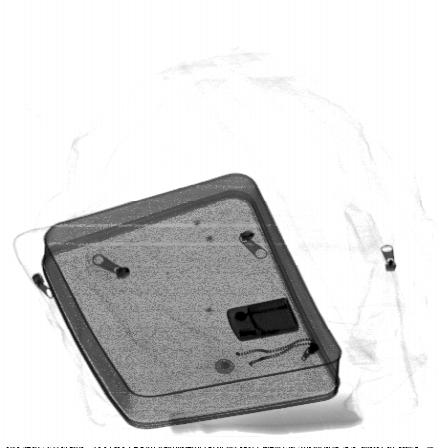Lighter: (226, 296, 300, 343)
